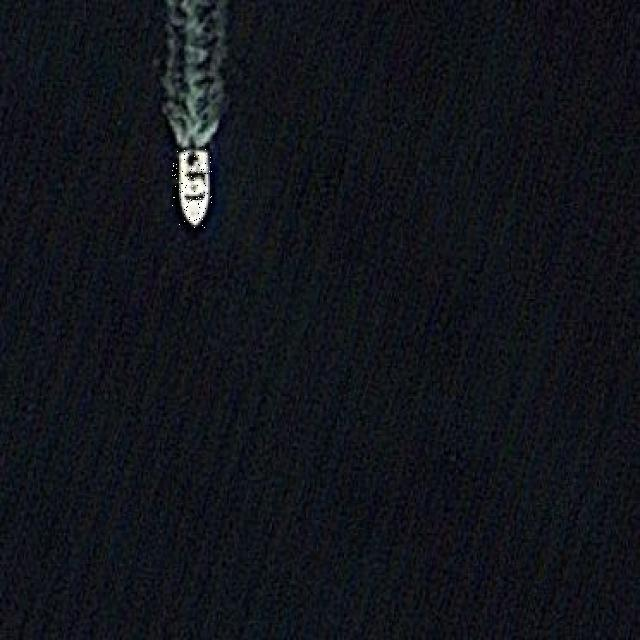boat: (172, 146, 212, 228)
